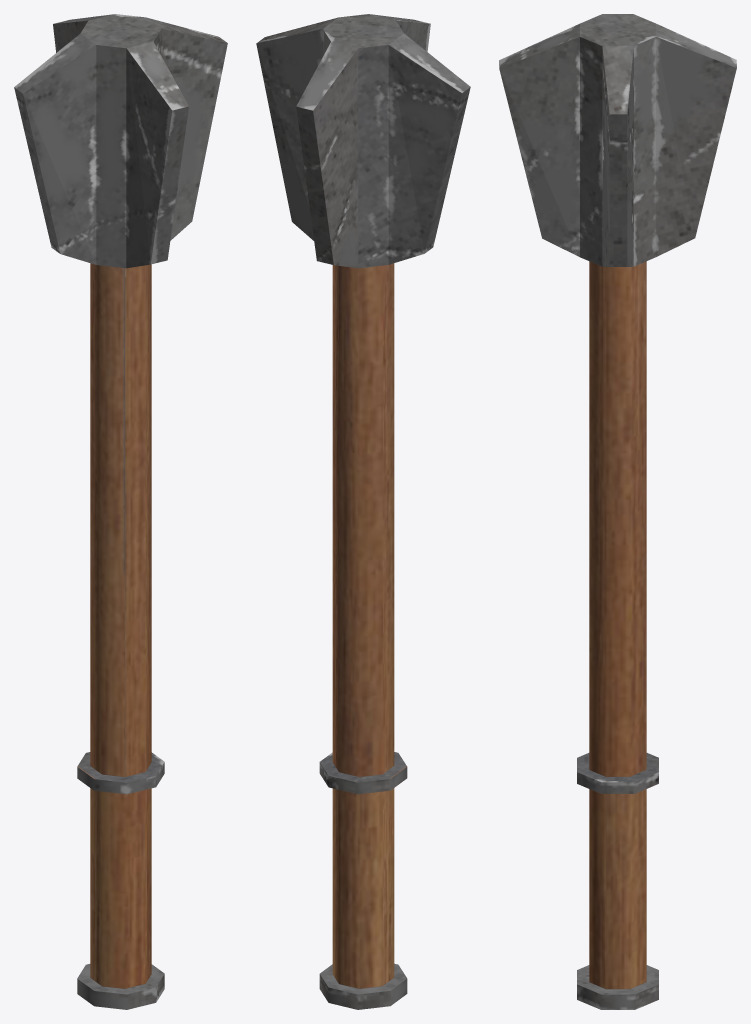
Rendered from MaceRedo (1).fbx.
3 renders of one model, left to right at view 1: azimuth 30°, elevation 25°; view 2: azimuth 150°, elevation 25°; view 3: azimuth 270°, elevation 25°, orthographic.
Parts seen in each view (by area): view 1: Cylinder002; view 2: Cylinder002; view 3: Cylinder002.
Boxes of the visible parts, <box> form: Cylinder002: <box>14,14,227,1009</box>; Cylinder002: <box>256,14,470,1009</box>; Cylinder002: <box>499,14,736,1009</box>.
Bounding box in the file's own units: 15.32 × 68.43 × 15.32.
Materials: 1 (1 with a texture image).
